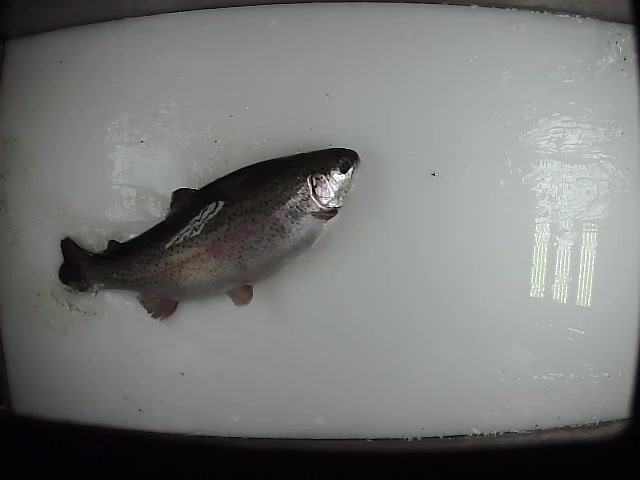Fish: (59, 148, 361, 321)
